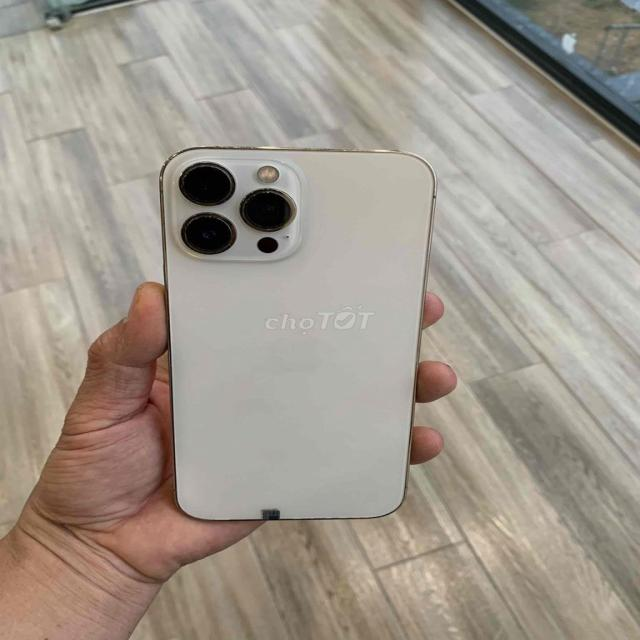gen_12_13: (152, 142, 441, 522)
